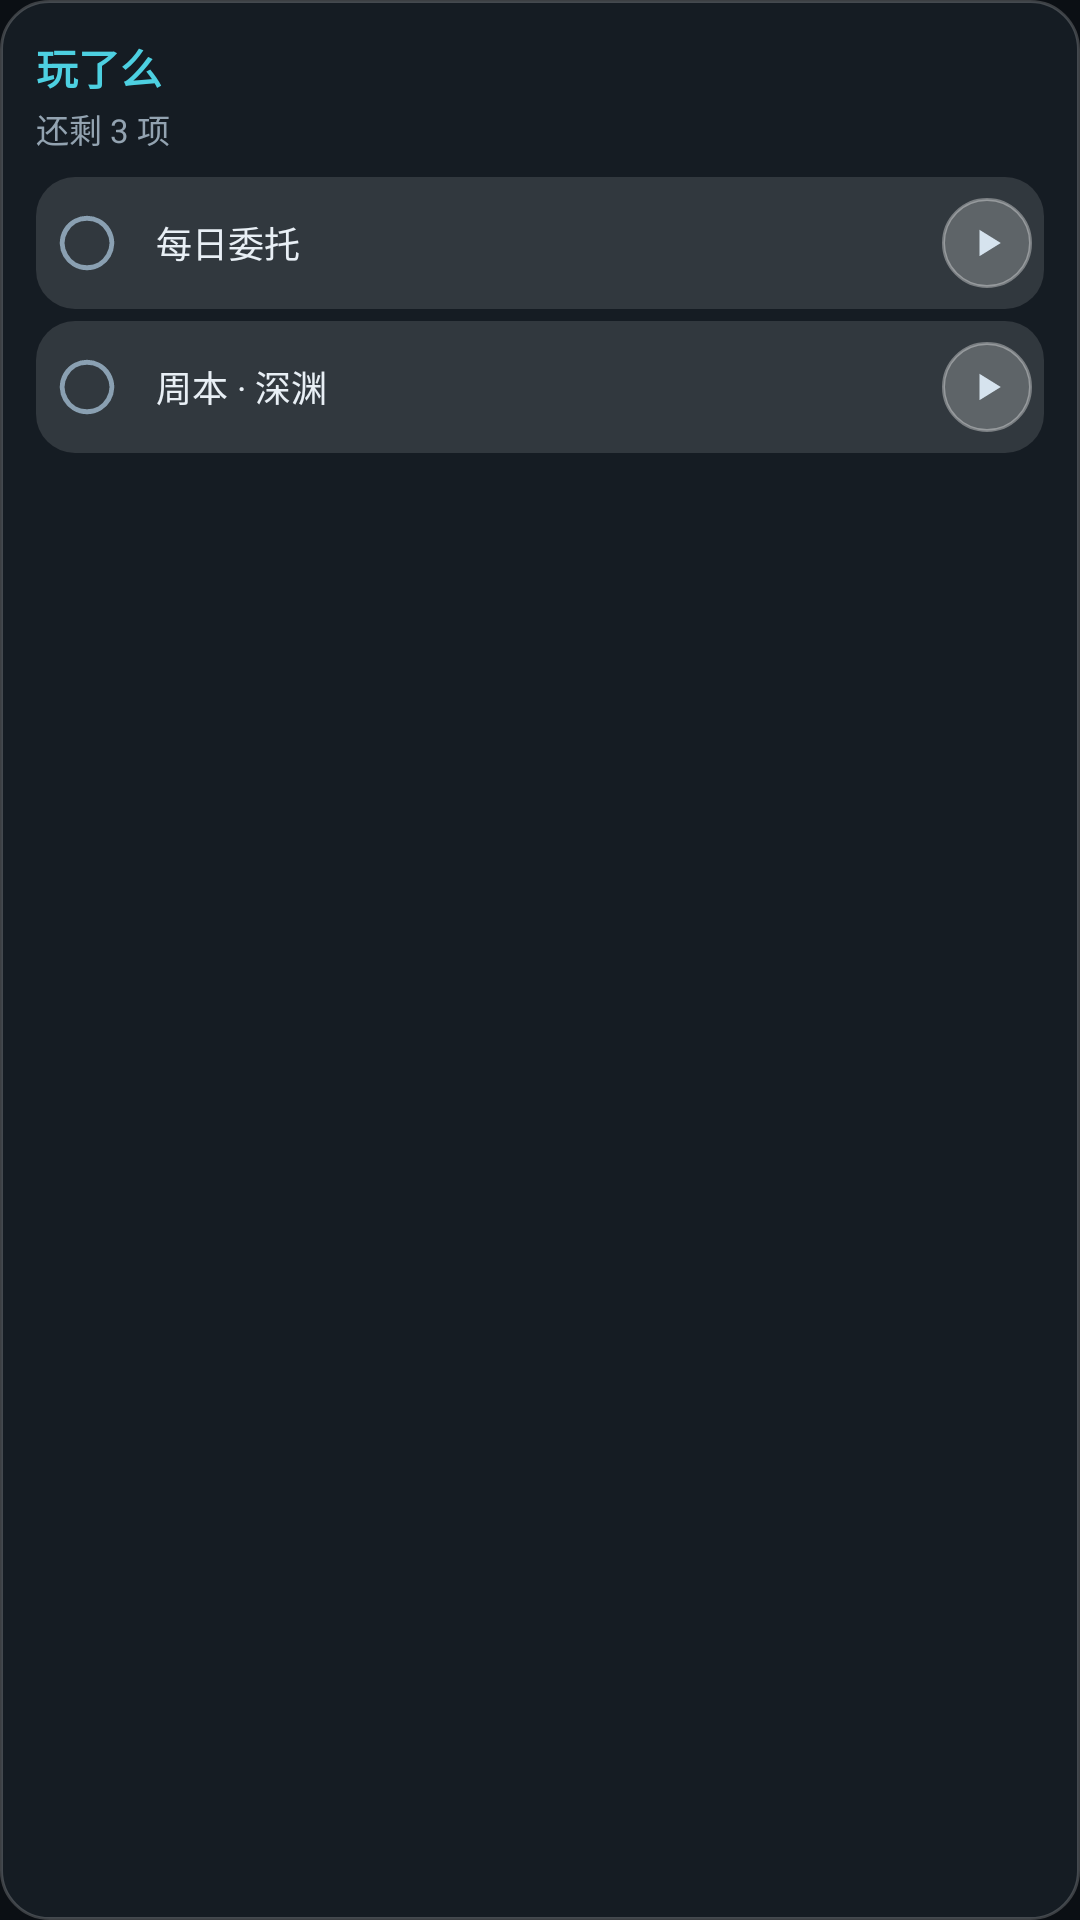

Named icons in this screenshot (1080*1920) and their bounding boxes, [x1=x1, y1=y1, x2=x2, y2=y2]:
widget check off: [x1=59, y1=216, x2=115, y2=271], [x1=59, y1=360, x2=115, y2=415]
widget play: [x1=942, y1=198, x2=1032, y2=288], [x1=942, y1=342, x2=1032, y2=432]
